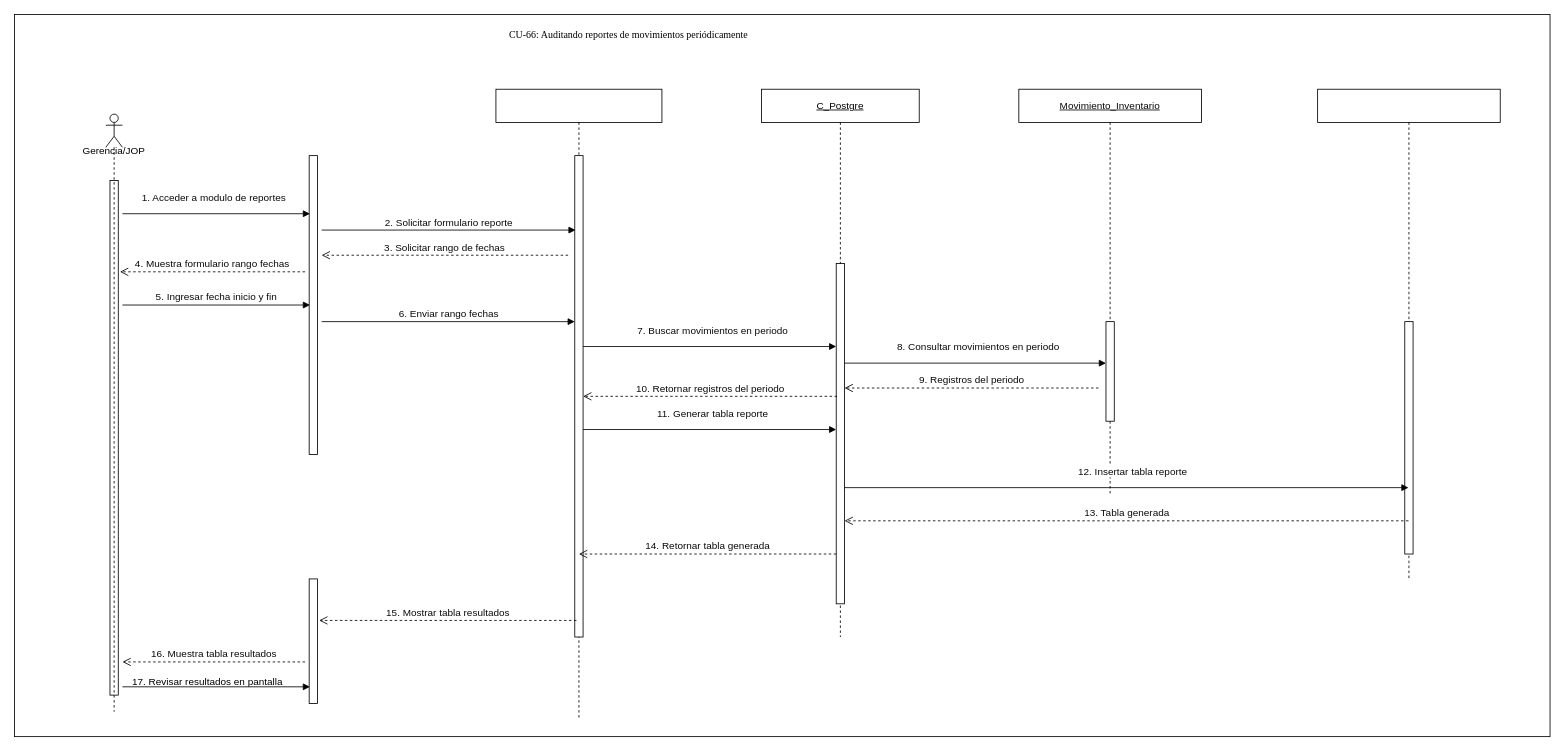
The diagram is 1565 pixels wide and 751 high, and some of its shapes have lost their labels. The shapes that lost their labels are listed below. From the top down, each one's box as (x1, y1, x2, y2) in pixels, then its label:
(1317, 88, 1500, 579): Reporte_Movimiento_Inventario
(495, 88, 662, 720): C_reportes
